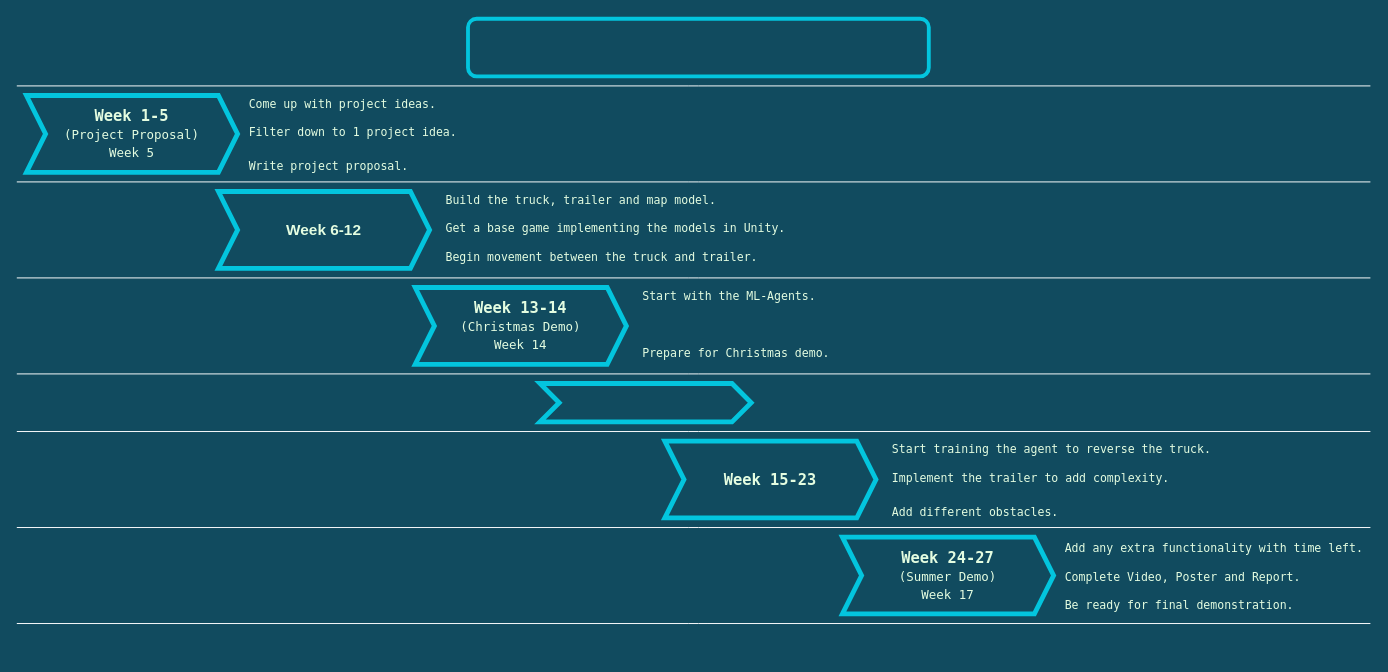
The diagram is 1388 pixels wide and 672 high, and some of its shapes have lost their labels. Each missing label, with the centre of its shape:
"Christmas Break" belongs at point (645, 402).
"Teaching AI to Park Timeline Vaclav Vincent Hornak" belongs at point (698, 47).
